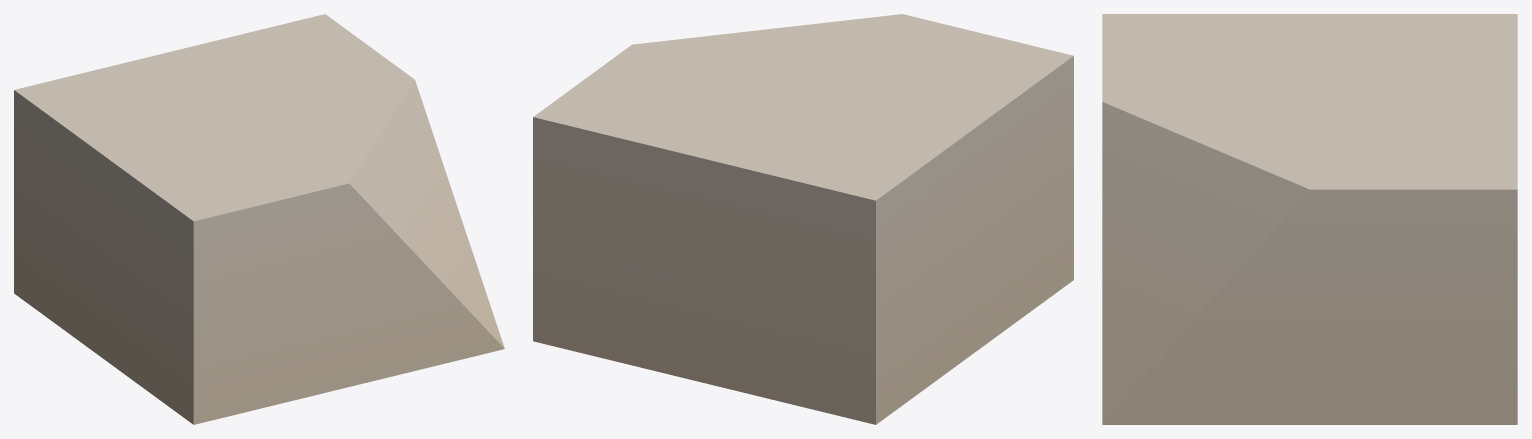
Rendered from building-corner-top.glb.
The picture shows the model from 3 angles, left to right: view 1: azimuth 30°, elevation 25°; view 2: azimuth 150°, elevation 25°; view 3: azimuth 270°, elevation 25°; orthographic projection. The views are drawn at different scales.
Visible parts, largest first — view 1: building-corner-top; view 2: building-corner-top; view 3: building-corner-top.
Part boxes in pixels (x1=…): building-corner-top: x1=14, y1=14, x2=504, y2=424; building-corner-top: x1=533, y1=14, x2=1073, y2=424; building-corner-top: x1=1102, y1=14, x2=1517, y2=424.
Size of the model in its own units: 1 by 0.625 by 1.
